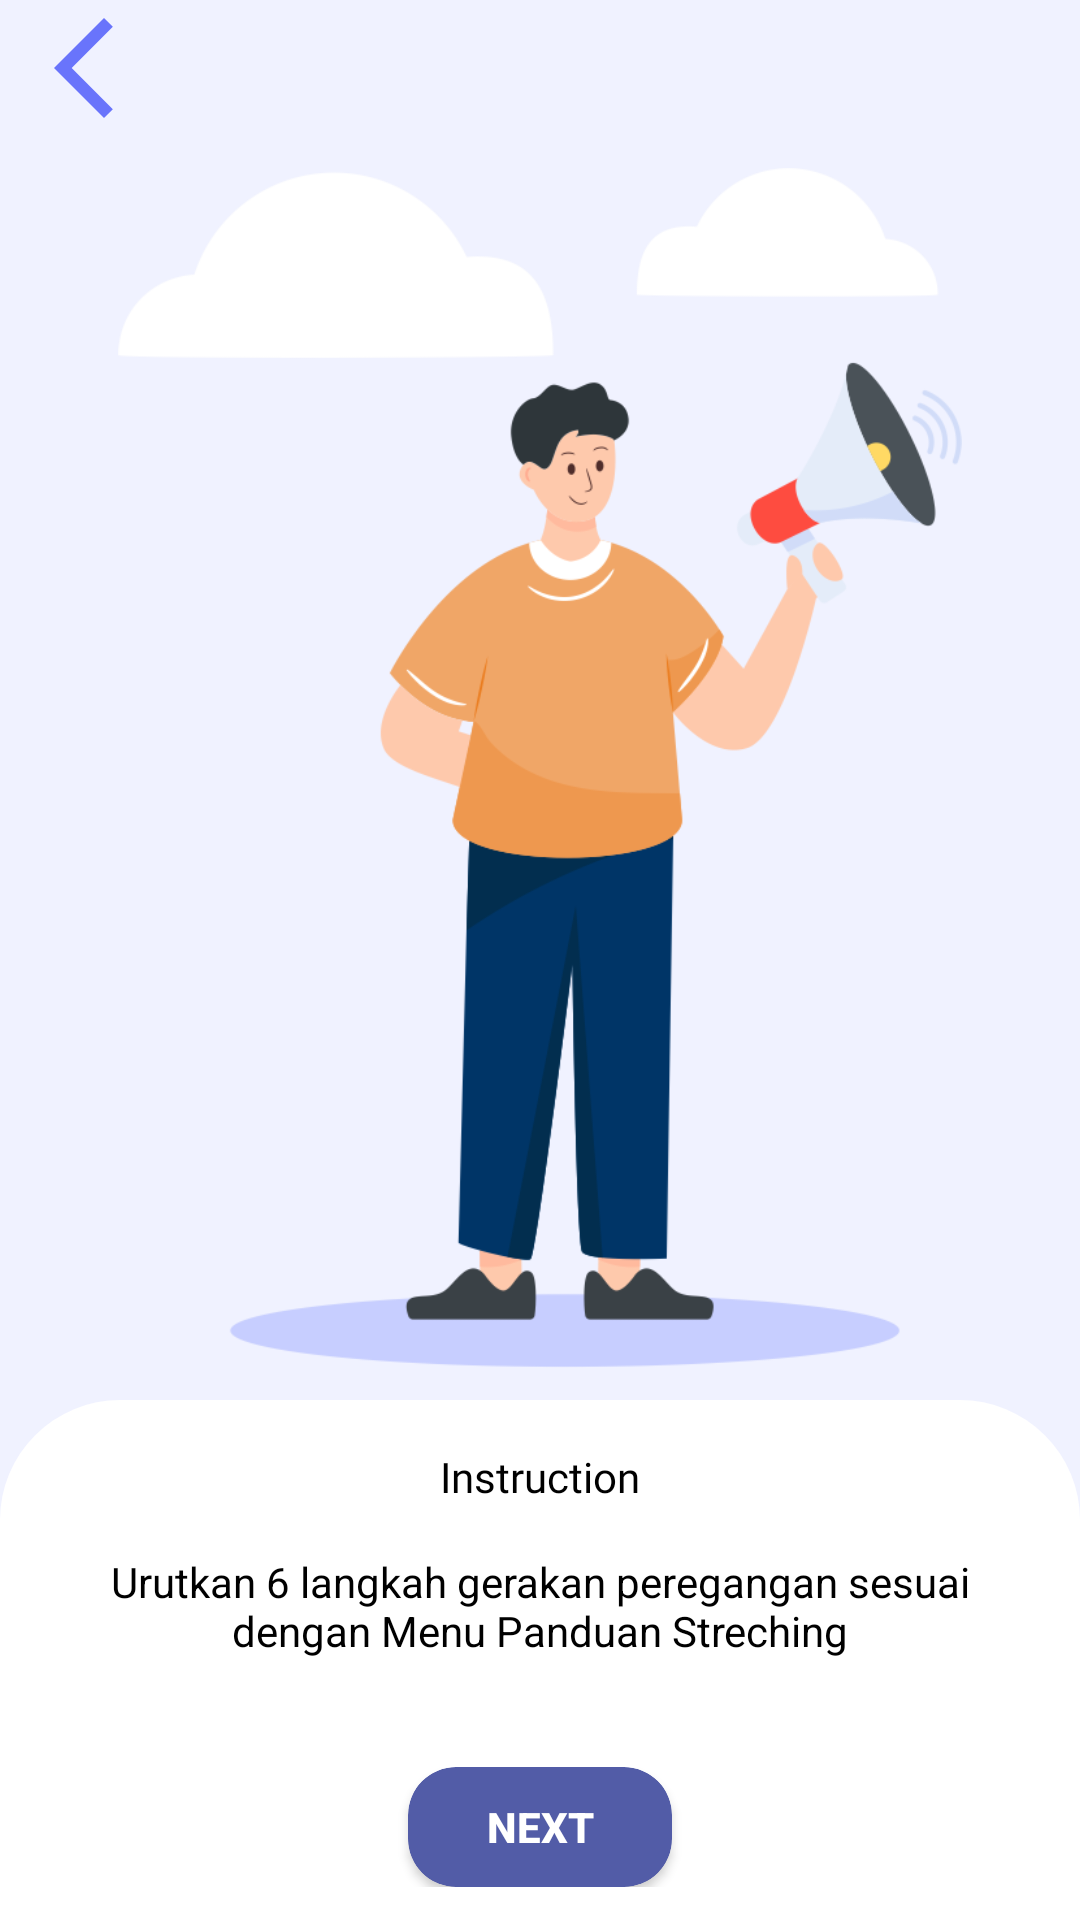

Icon click points for this 1080 x 1920 phone screenshot, format (x=x, y=y):
arrow back: (x=83, y=68)
